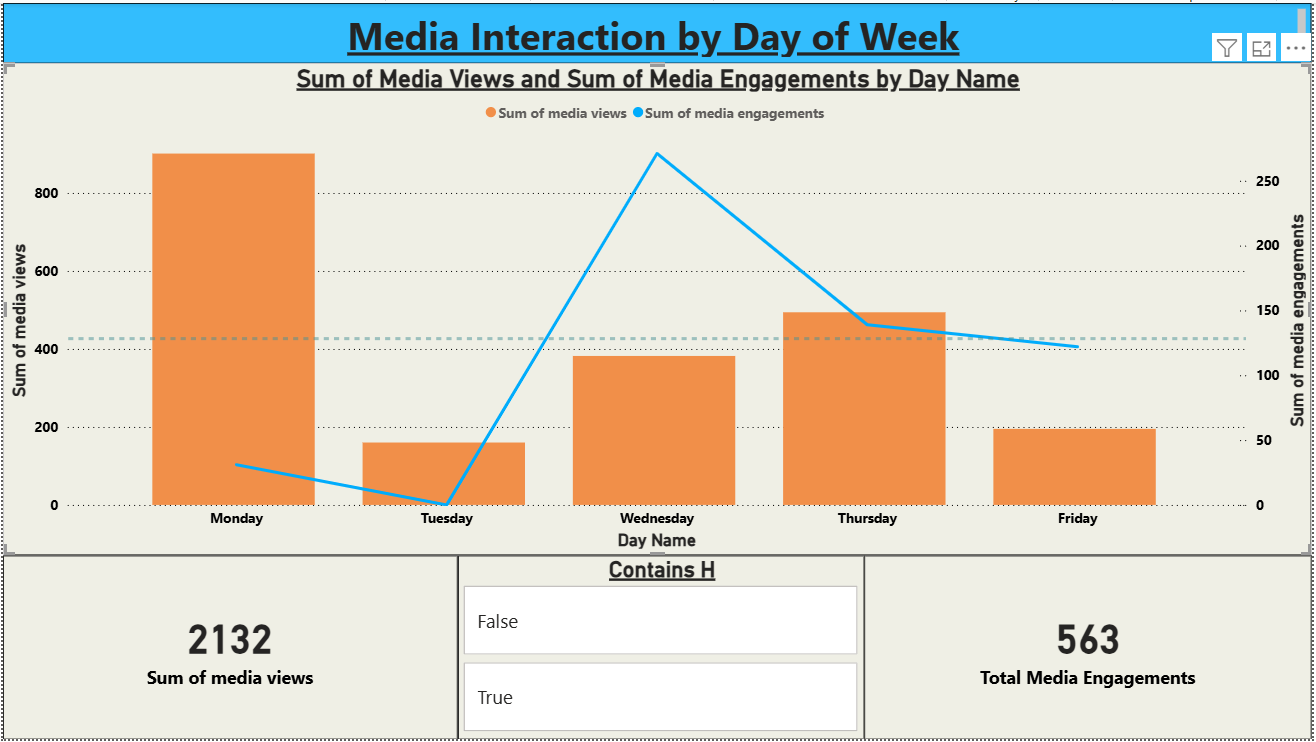

The page's visual inventory and layout, read from the dashboard file:
{"tool":"powerbi","page":{"name":"Page 3","canvas":[1280,720],"ordinal":2},"visuals":[{"type":"textbox","box":[0,0,1280.3,59],"z":0},{"type":"lineClusteredColumnComboChart","title":"Sum of Media Views and Sum of Media Engagements by Day Name","fields":{"Category":["Task3_data.Day Name"],"Y":["Sum(Task3_data.media views)"],"Y2":["Sum(Task3_data.media engagements)"]},"box":[0,59,1280.3,481.6],"z":1000},{"type":"card","fields":{"Values":["Sum(Task3_data.media views)"]},"box":[0,540.7,444.6,179.8],"z":2000},{"type":"card","fields":{"Values":["Sum(Task3_data.media engagements)"]},"box":[842.5,540.7,437.7,179.8],"z":3000},{"type":"advancedSlicerVisual","fields":{"Values":["Task3_data.Contains H"]},"box":[444.6,540.7,397.9,179.8],"z":4000}]}

Visuals, with their boxes in screenshot pixels (x1, y1, x2, y2), scaled from the page's 1280x720 canvas onto the 1316x742 screenshot:
textbox: <bbox>0, 0, 1315, 61</bbox>
"Sum of Media Views and Sum of Media Engagements by Day Name" lineClusteredColumnComboChart: <bbox>0, 61, 1315, 557</bbox>
card - Sum(Task3_data.media views): <bbox>0, 557, 457, 741</bbox>
card - Sum(Task3_data.media engagements): <bbox>866, 557, 1315, 741</bbox>
advancedSlicerVisual - Task3_data.Contains H: <bbox>457, 557, 866, 741</bbox>
